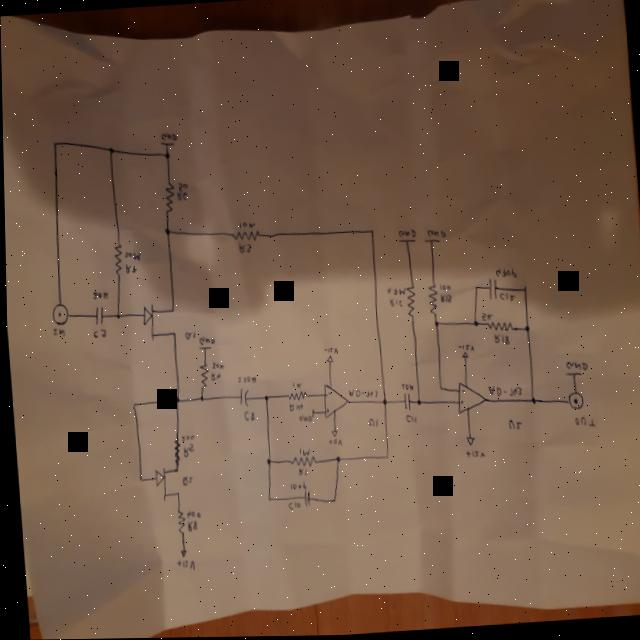capacitor: (485, 278, 497, 302), (237, 387, 248, 409), (92, 306, 103, 326), (400, 395, 410, 413), (300, 491, 309, 509)
ground: (159, 141, 175, 149), (397, 239, 415, 246), (422, 240, 440, 247), (563, 373, 581, 380), (197, 344, 211, 352), (309, 409, 313, 420)
junction: (163, 228, 170, 237), (528, 398, 535, 407), (172, 397, 179, 405), (264, 458, 270, 467), (51, 142, 58, 149), (415, 400, 421, 408), (523, 327, 529, 335), (471, 321, 477, 329), (380, 399, 386, 407), (333, 457, 339, 465), (261, 395, 267, 403), (107, 147, 113, 155), (432, 322, 438, 330), (164, 153, 170, 161), (197, 397, 203, 404), (114, 314, 119, 321), (136, 477, 141, 484), (521, 287, 526, 293), (437, 387, 442, 393), (368, 230, 373, 236), (265, 497, 269, 504), (473, 286, 477, 292), (329, 499, 333, 505), (131, 404, 135, 410), (383, 456, 387, 462)
resistor: (287, 455, 315, 470), (163, 181, 175, 215), (111, 244, 123, 278), (404, 287, 416, 320), (230, 231, 257, 245), (485, 321, 512, 335), (426, 286, 438, 317), (173, 509, 184, 537), (197, 364, 208, 390), (285, 391, 307, 404), (170, 438, 179, 464)
source: (463, 436, 474, 449), (177, 549, 186, 558), (323, 356, 332, 364), (460, 353, 468, 361), (329, 431, 336, 439)
terminal: (50, 304, 67, 325), (566, 393, 583, 412)
text: (485, 386, 522, 401), (346, 388, 377, 402), (571, 417, 595, 432), (563, 362, 587, 375), (494, 268, 517, 281), (462, 450, 484, 462), (174, 559, 194, 572), (491, 334, 509, 348), (504, 420, 522, 434), (123, 250, 141, 263), (235, 243, 253, 256), (180, 443, 194, 459), (235, 376, 255, 387), (160, 132, 178, 144), (287, 481, 306, 492), (397, 230, 416, 241), (426, 230, 445, 241), (497, 294, 515, 305), (386, 288, 404, 299), (455, 344, 473, 355), (91, 291, 108, 302), (197, 336, 214, 347), (179, 475, 193, 488), (287, 403, 303, 414), (240, 411, 253, 424), (123, 263, 136, 276), (92, 328, 106, 340), (402, 415, 416, 427), (284, 501, 299, 512), (387, 299, 402, 310), (326, 438, 341, 449), (209, 361, 224, 372), (175, 191, 188, 203), (399, 383, 413, 394), (364, 419, 378, 430), (479, 313, 493, 324), (50, 327, 64, 338), (296, 414, 311, 424), (184, 521, 196, 533), (438, 294, 451, 305), (323, 347, 337, 357), (179, 434, 193, 444), (237, 222, 254, 230), (184, 511, 199, 520), (183, 330, 195, 341), (176, 182, 188, 193), (296, 448, 309, 458), (209, 372, 220, 383), (295, 467, 306, 478), (438, 284, 450, 293), (290, 382, 300, 391), (324, 392, 331, 398), (324, 408, 328, 416), (459, 390, 464, 395), (458, 400, 462, 406)
transistor: (138, 301, 177, 345), (151, 467, 180, 503)
